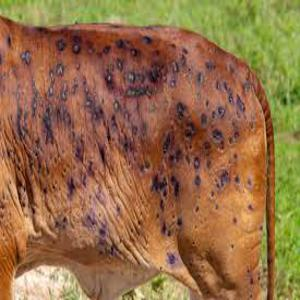lumpy skin diesease: (0, 1, 277, 299)
